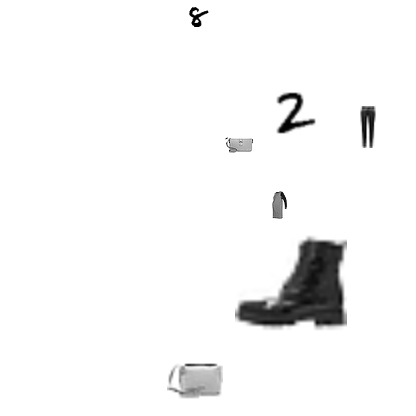2: (263, 85, 319, 141)
8: (182, 2, 210, 30)
Ankle_boot: (235, 225, 347, 337)
Bag: (167, 352, 223, 408), (225, 131, 253, 159)
Dress: (265, 191, 293, 219)
Trouser: (347, 106, 389, 148)
